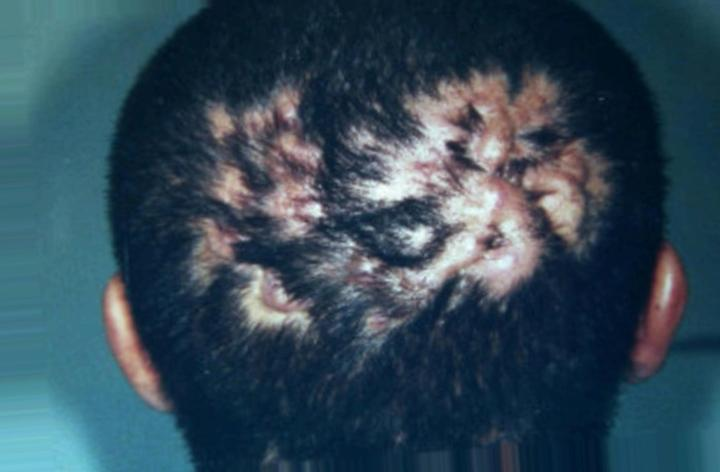Folliculitis: (195, 75, 585, 300)
